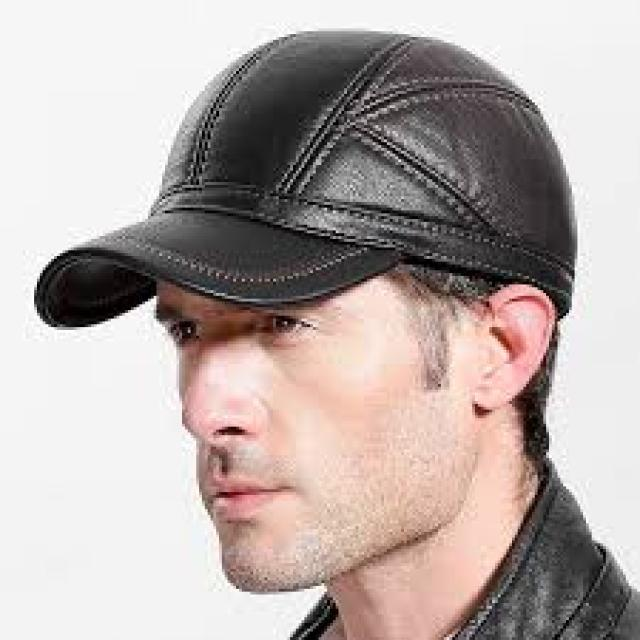cap: (11, 12, 612, 404)
